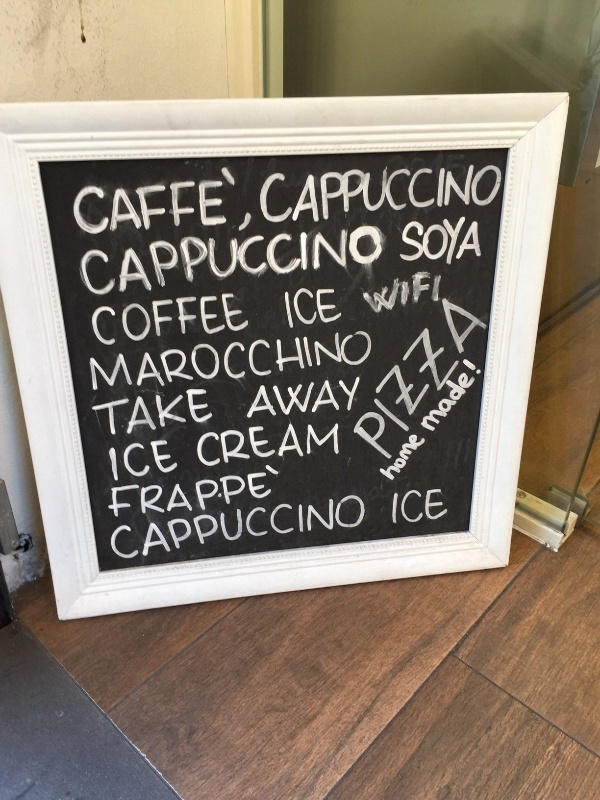text: (353, 291, 368, 469), (369, 291, 384, 469), (385, 291, 400, 469), (401, 291, 416, 469), (417, 291, 432, 469), (433, 291, 448, 469), (449, 291, 464, 469), (465, 291, 480, 469), (481, 291, 493, 469), (417, 353, 432, 439), (433, 353, 448, 439), (449, 353, 464, 439), (465, 353, 480, 439), (225, 164, 241, 244), (81, 164, 96, 244), (97, 164, 112, 244), (113, 164, 128, 244), (129, 164, 144, 244), (145, 164, 160, 244), (161, 164, 176, 244), (177, 164, 192, 244), (193, 164, 208, 244), (209, 164, 224, 244), (113, 489, 128, 569), (129, 489, 144, 569), (145, 489, 160, 569), (161, 489, 176, 569), (177, 489, 192, 569), (193, 489, 208, 569), (209, 489, 224, 569), (225, 489, 240, 569), (241, 489, 256, 569), (257, 489, 272, 569), (273, 489, 288, 569), (289, 489, 304, 569), (305, 489, 320, 569), (321, 489, 336, 569), (337, 489, 352, 569), (81, 224, 96, 303), (97, 224, 112, 303), (113, 224, 128, 303), (129, 224, 144, 303), (145, 224, 160, 303), (161, 224, 176, 303), (177, 224, 192, 303), (193, 224, 208, 303), (209, 224, 224, 303), (225, 224, 240, 303), (241, 224, 256, 303), (257, 224, 272, 303), (273, 224, 288, 303), (289, 224, 304, 303), (305, 224, 320, 303), (321, 224, 336, 303), (337, 224, 352, 303), (353, 224, 368, 303), (369, 224, 384, 303), (353, 489, 367, 569), (97, 325, 112, 399), (113, 325, 128, 399), (129, 325, 144, 399), (145, 325, 160, 399), (161, 325, 176, 399), (177, 325, 192, 399), (193, 325, 208, 399), (209, 325, 224, 399), (225, 325, 240, 399), (241, 325, 256, 399), (257, 325, 272, 399), (273, 325, 288, 399), (289, 325, 304, 399), (305, 325, 320, 399), (321, 325, 336, 399), (337, 325, 352, 399), (353, 325, 368, 399), (273, 161, 288, 227), (289, 161, 304, 227), (305, 161, 320, 227), (321, 161, 336, 227), (337, 161, 352, 227), (353, 161, 368, 227), (369, 161, 384, 227), (385, 161, 400, 227), (401, 161, 416, 227), (417, 161, 432, 227), (433, 161, 448, 227), (449, 161, 464, 227), (465, 161, 480, 227), (481, 161, 496, 227), (97, 291, 112, 353), (113, 291, 128, 353), (129, 291, 144, 353), (145, 291, 160, 353), (161, 291, 176, 353), (177, 291, 192, 353), (193, 291, 208, 353), (209, 291, 224, 353), (225, 291, 240, 353), (385, 426, 400, 486), (401, 426, 416, 486), (347, 291, 352, 469), (369, 263, 384, 322), (385, 263, 400, 322), (401, 263, 416, 322), (417, 263, 432, 322), (113, 469, 128, 528), (129, 469, 144, 528), (145, 469, 160, 528), (161, 469, 176, 528), (177, 469, 192, 528), (193, 469, 208, 528), (209, 469, 224, 528), (225, 469, 240, 528), (241, 469, 256, 528), (257, 469, 272, 528), (97, 386, 112, 444), (113, 386, 128, 444), (129, 386, 144, 444), (145, 386, 160, 444), (161, 386, 176, 444), (177, 386, 192, 444), (193, 386, 208, 444), (289, 281, 304, 338), (305, 281, 320, 338), (321, 281, 336, 338), (113, 434, 128, 491), (129, 434, 144, 491), (145, 434, 160, 491), (161, 434, 176, 491), (241, 291, 254, 353), (417, 218, 432, 271), (433, 218, 448, 271), (449, 218, 464, 271), (465, 218, 480, 271), (209, 421, 224, 474), (225, 421, 240, 474), (241, 421, 256, 474), (257, 421, 272, 474), (273, 421, 288, 474), (289, 421, 304, 474), (305, 421, 320, 474), (321, 421, 336, 474), (402, 218, 416, 271), (417, 426, 429, 486), (433, 263, 445, 322), (257, 375, 272, 422), (273, 375, 288, 422), (289, 375, 304, 422), (305, 375, 320, 422), (321, 375, 336, 422), (337, 375, 352, 422), (87, 325, 96, 399), (497, 161, 507, 227), (401, 488, 416, 531), (417, 488, 432, 531), (433, 488, 448, 531), (196, 421, 208, 474), (358, 263, 368, 322), (337, 281, 347, 338), (353, 375, 365, 422), (73, 224, 80, 303), (264, 161, 272, 227), (88, 291, 96, 353), (74, 164, 80, 244), (88, 386, 96, 444), (104, 434, 112, 491), (481, 353, 486, 439), (377, 426, 384, 486), (209, 386, 216, 444), (243, 206, 256, 235), (392, 488, 400, 531), (282, 281, 288, 338), (369, 325, 373, 399), (177, 434, 182, 491), (109, 489, 112, 569), (108, 469, 112, 528), (481, 218, 485, 271), (337, 421, 340, 474), (385, 224, 387, 303), (449, 488, 451, 531), (273, 469, 274, 528)
